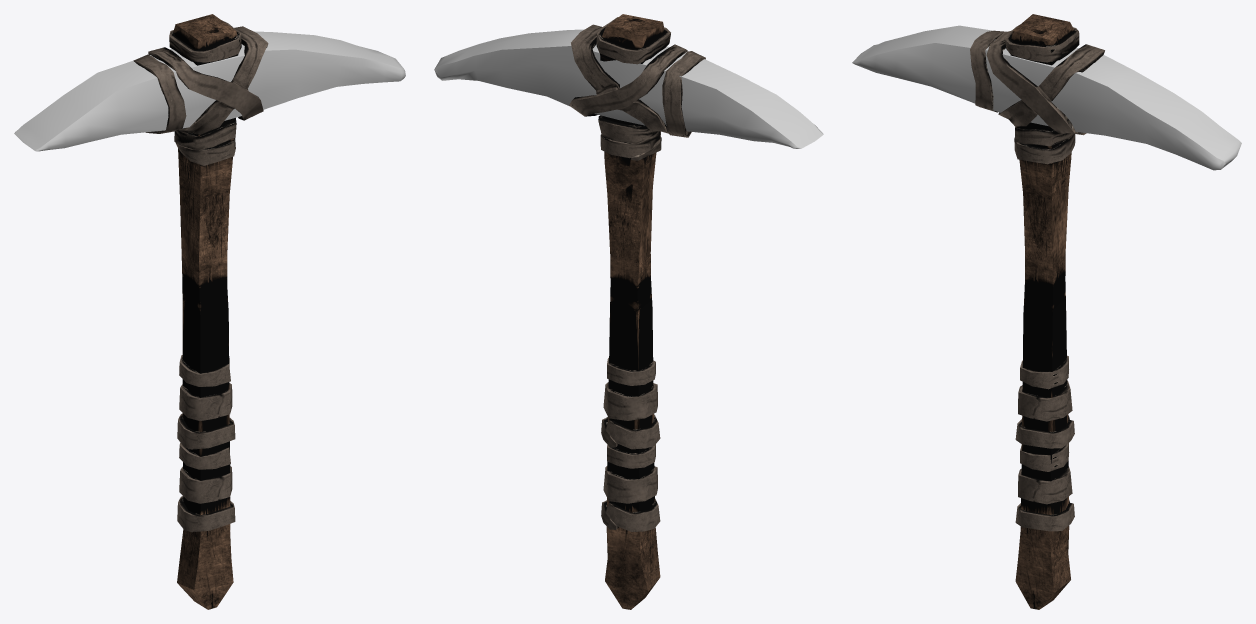
The model's file is pickaxe.fbx.
The picture shows the model from 3 angles, left to right: view 1: azimuth 30°, elevation 25°; view 2: azimuth 150°, elevation 25°; view 3: azimuth 330°, elevation 25°; orthographic projection.
Parts seen in each view (by area): view 1: pickaxe_low; view 2: pickaxe_low; view 3: pickaxe_low.
Boxes of the visible parts, <box> form: pickaxe_low: <box>14,14,405,609</box>; pickaxe_low: <box>434,14,823,609</box>; pickaxe_low: <box>852,14,1241,609</box>.
Size of the model in its own units: 494 by 730 by 87.06.
